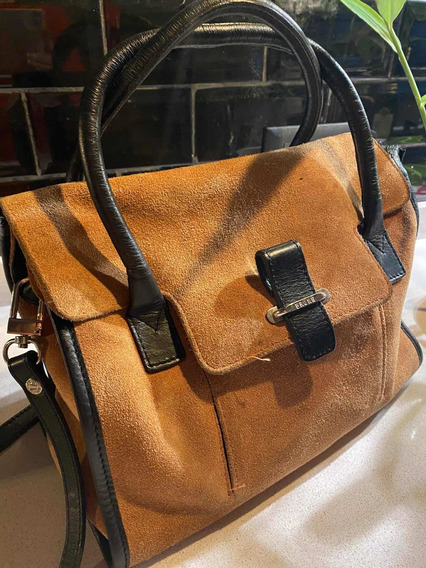cartera: (6, 2, 426, 568)
